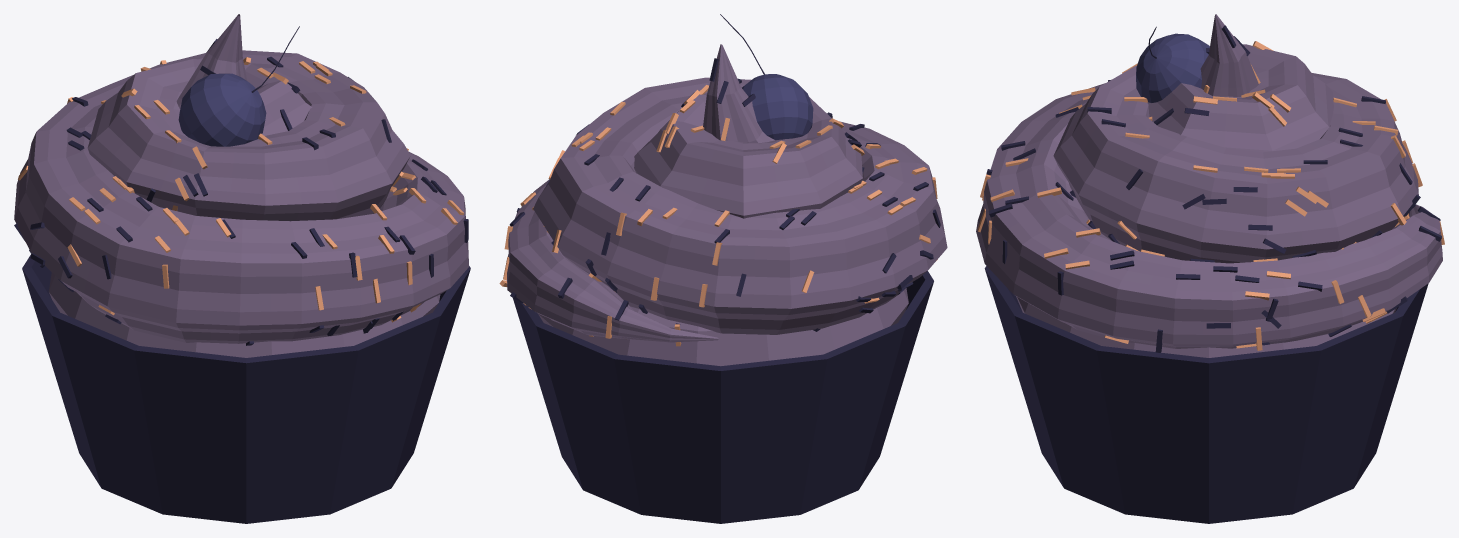
File: cupcakeroxo.fbx
The picture shows the model from 3 angles, left to right: view 1: azimuth 30°, elevation 25°; view 2: azimuth 150°, elevation 25°; view 3: azimuth 270°, elevation 25°; orthographic projection. The views are drawn at different scales.
Parts seen in each view (by area): view 1: chantilly, potinho, bolinho, cereja; view 2: chantilly, potinho, bolinho, cereja; view 3: chantilly, potinho, cereja, bolinho.
Part boxes in pixels (box(x1,y1,x2,y2)): chantilly: box(14, 14, 468, 343); potinho: box(22, 254, 470, 523); bolinho: box(48, 272, 440, 357); cereja: box(178, 73, 266, 146); chantilly: box(507, 44, 947, 342); potinho: box(513, 271, 933, 523); bolinho: box(538, 288, 908, 366); cereja: box(742, 74, 813, 140); chantilly: box(976, 14, 1442, 348); potinho: box(984, 266, 1428, 523); cereja: box(1136, 33, 1209, 102); bolinho: box(1016, 296, 1396, 357).
Bounding box in the file's own units: 595 × 630 × 609.
